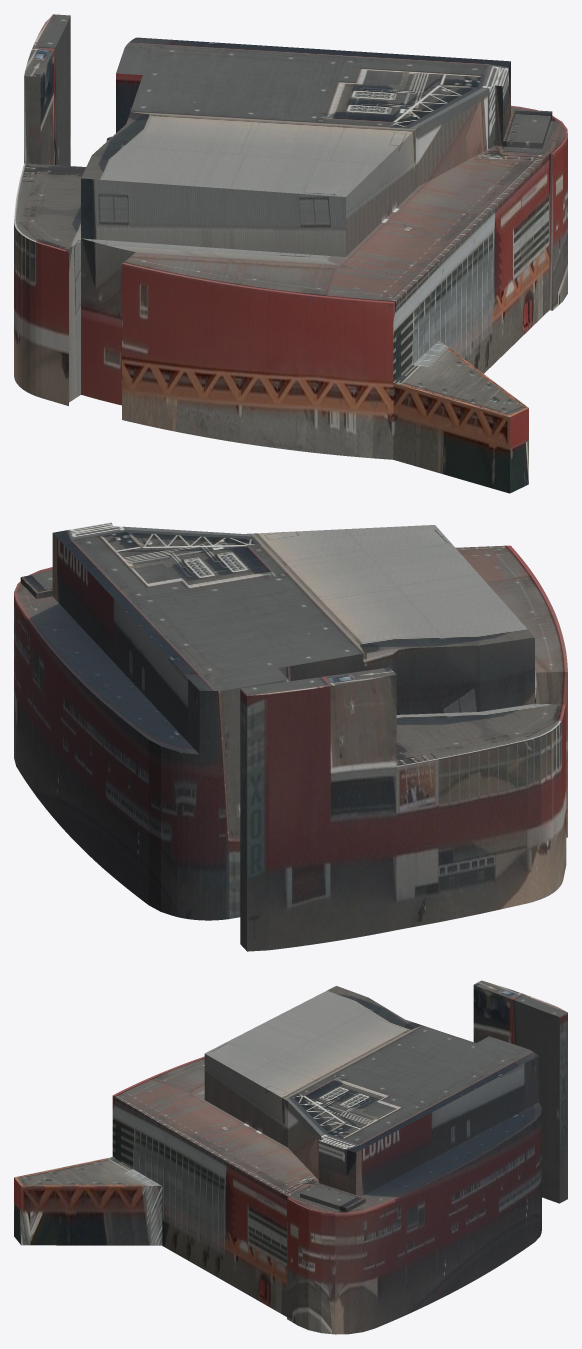
The model's file is {924CAB1F-4A5C-4AF2-AF0C-28F223E73383}.gltf.
The picture shows the model from 3 angles, top to bottom: view 1: azimuth 30°, elevation 25°; view 2: azimuth 150°, elevation 25°; view 3: azimuth 270°, elevation 25°; orthographic projection. The views are drawn at different scales.
Visible parts, largest first — view 1: Z_UP; view 2: Z_UP; view 3: Z_UP.
Boxes of the visible parts, x1,y1,x2,y2 form: Z_UP: (14, 14, 567, 493); Z_UP: (14, 522, 567, 951); Z_UP: (14, 980, 567, 1334).
Size of the model in its own units: 90.53 by 40.24 by 108.
Materials: 17 (16 with a texture image).
